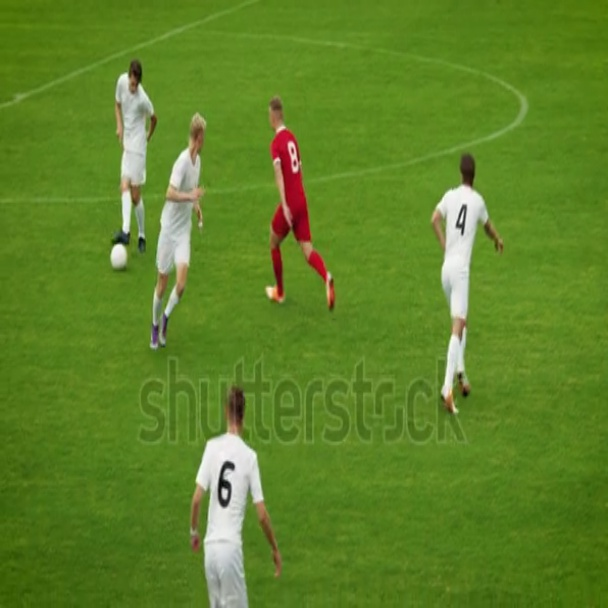ball: (111, 242, 129, 272)
